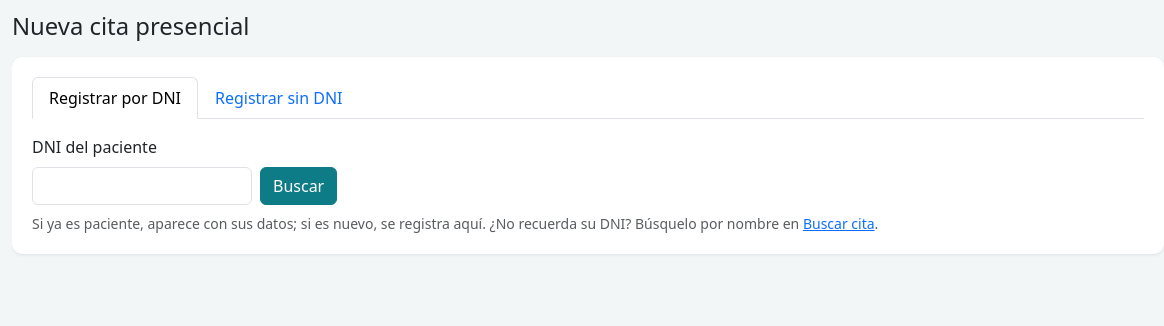
Test: NuevaCita presencial (CU-06) › valida el DNI de 8 dígitos antes de buscar
Type "123" into the field labelled "DNI del paciente" at point(142, 186), box [32,167,252,205]
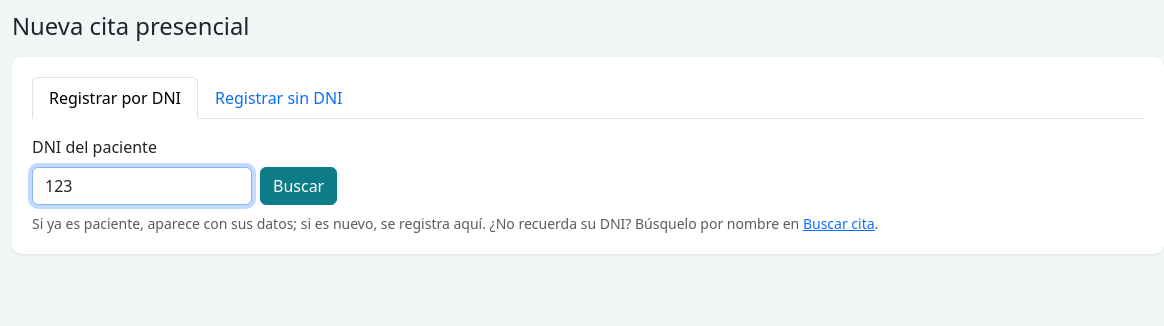
Click the button "Buscar" at point(299, 186), box [260,167,337,205]
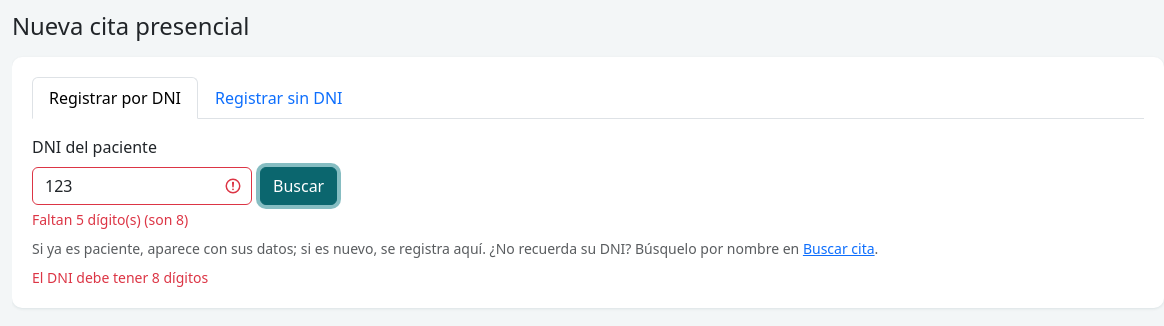
Expected: the text "El DNI debe tener 8 dígitos" is shown, [32,268,208,287]
